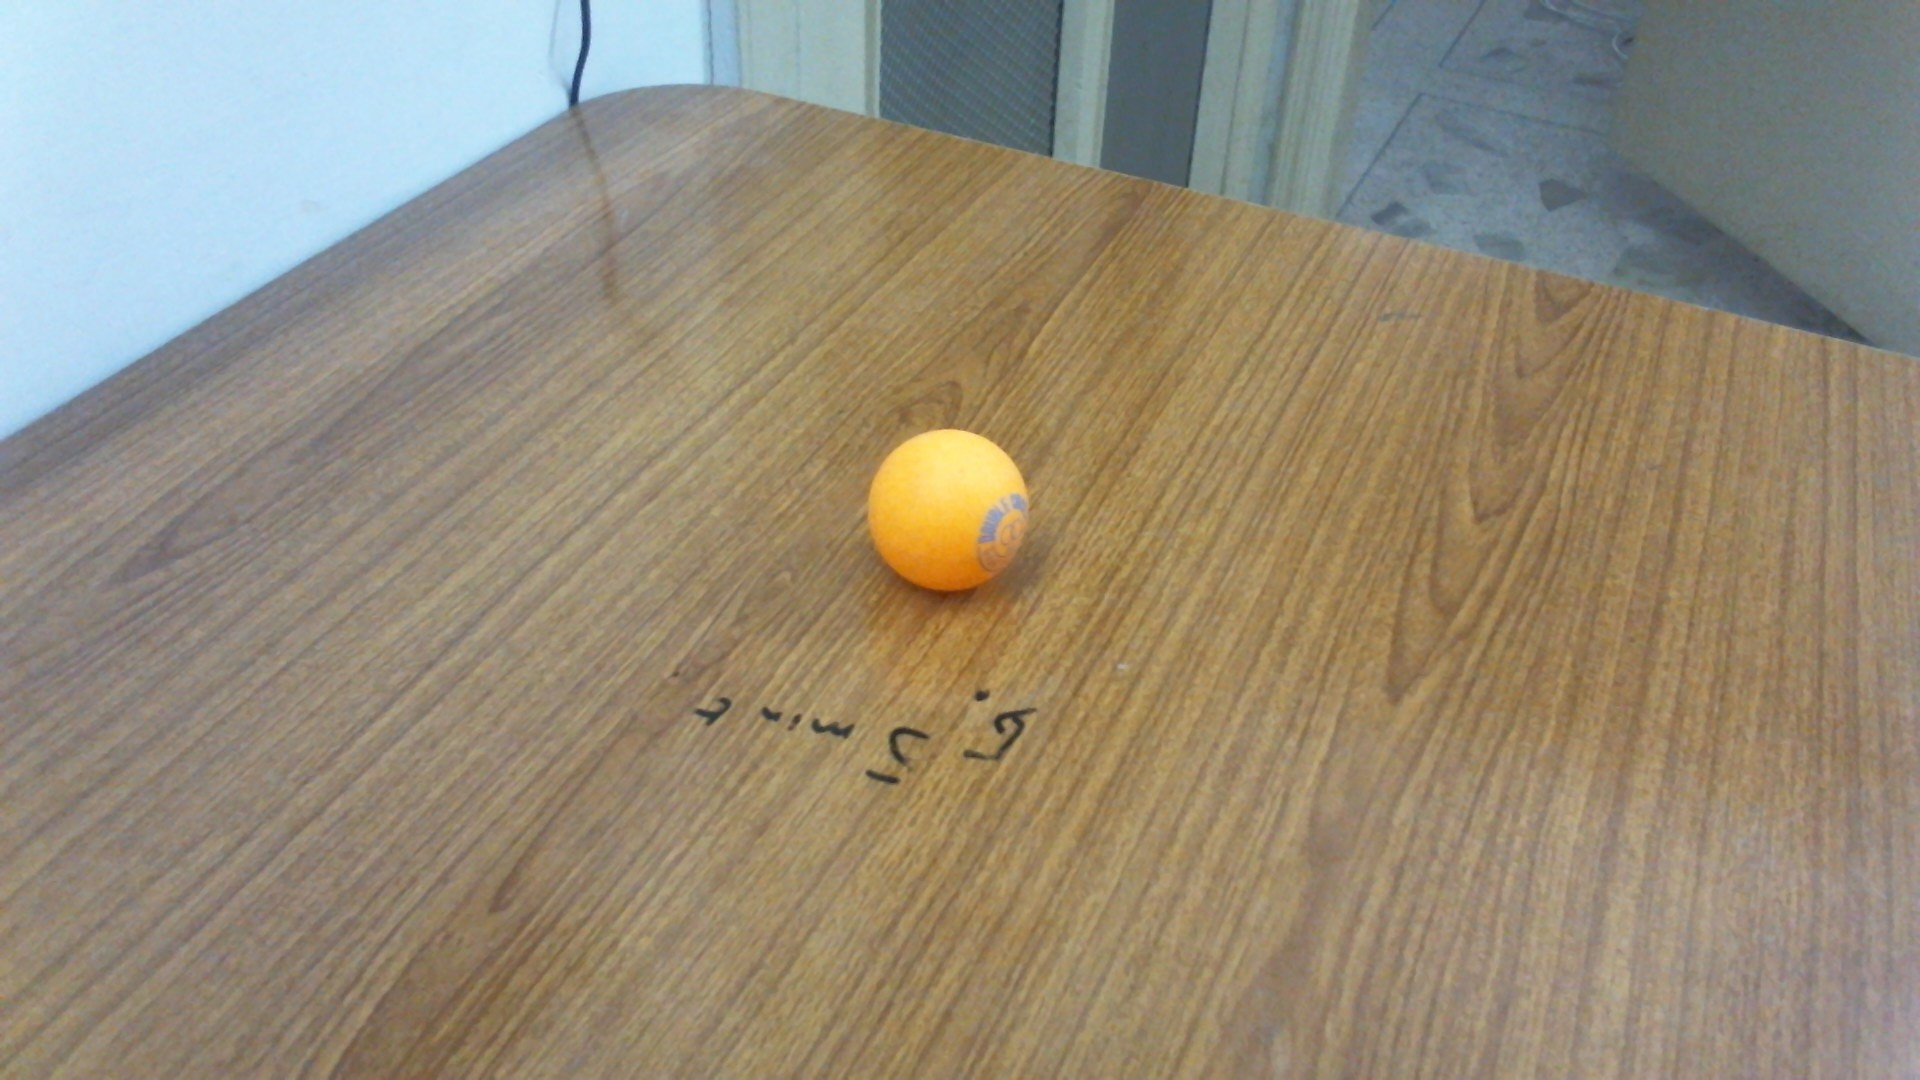ball: (862, 427, 1031, 593)
